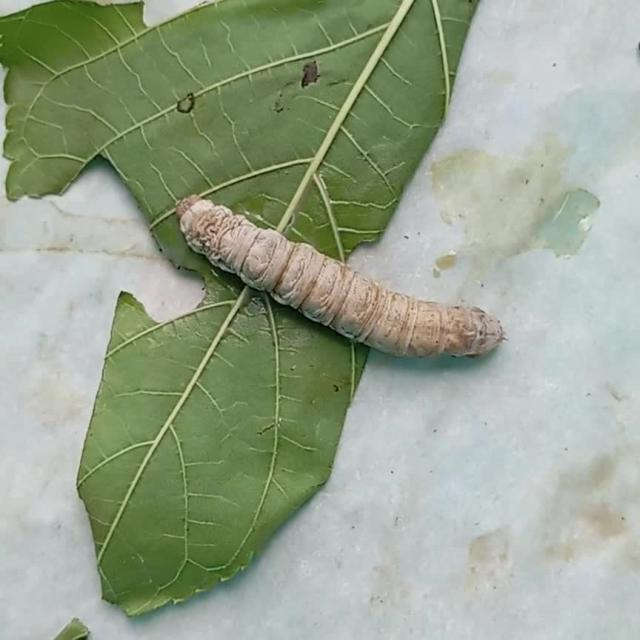Grasserie: (177, 175, 517, 400)
